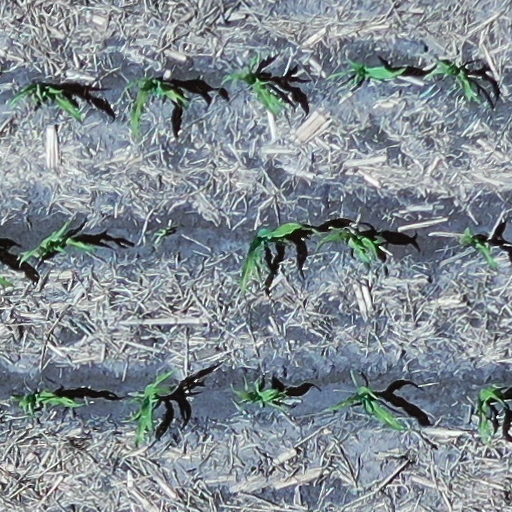planta: (239, 222, 321, 298), (219, 49, 288, 122), (17, 216, 95, 270), (124, 368, 177, 444), (420, 60, 491, 110), (333, 385, 405, 431), (129, 77, 186, 134), (322, 56, 409, 87), (12, 85, 82, 119), (315, 231, 382, 264), (229, 377, 290, 409), (13, 389, 91, 414), (459, 223, 497, 272), (477, 385, 508, 439)
